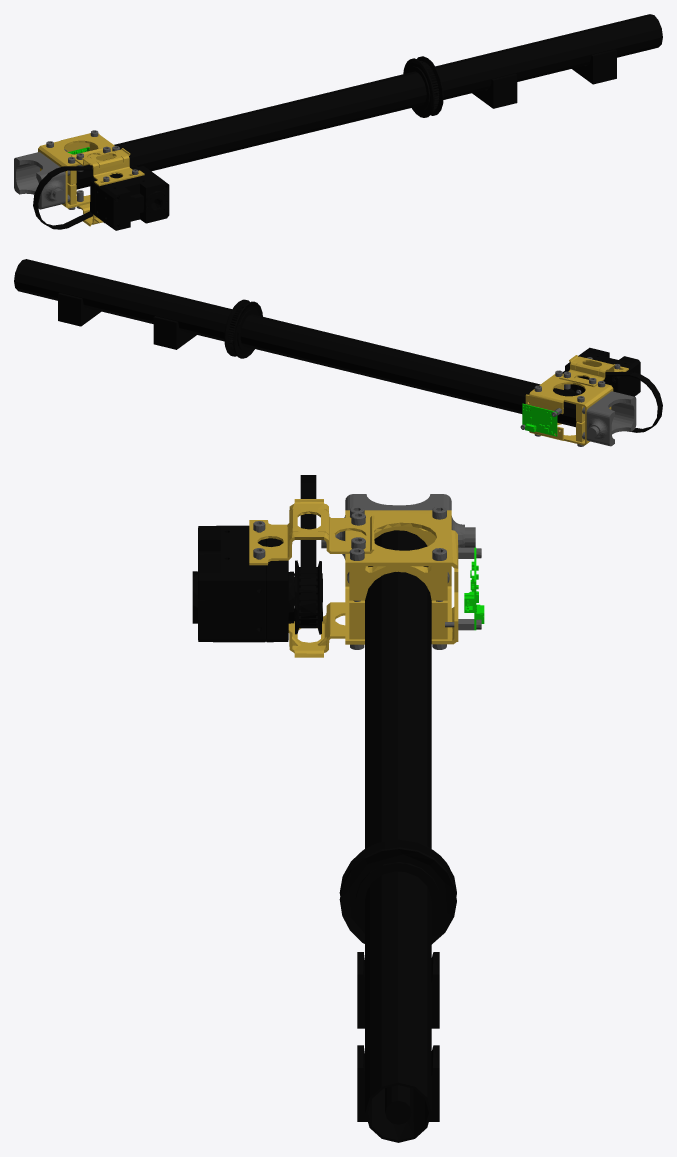
File: end_link.dae
3 views of the same model, one above another, from view 1: azimuth 30°, elevation 25°; view 2: azimuth 150°, elevation 25°; view 3: azimuth 270°, elevation 25° (orthographic). The views are drawn at different scales.
Visible parts, largest first — view 1: end_leg_black, end_leg_gold, end_leg_grey; view 2: end_leg_black, end_leg_gold, end_leg_grey, end_leg_green; view 3: end_leg_black, end_leg_gold, end_leg_grey.
Boxes of the visible parts, left/top/right/bottom form: end_leg_black: left=33, top=14, right=662, bottom=230; end_leg_gold: left=38, top=133, right=144, bottom=226; end_leg_grey: left=14, top=130, right=138, bottom=223; end_leg_black: left=14, top=259, right=662, bottom=432; end_leg_gold: left=525, top=355, right=628, bottom=445; end_leg_grey: left=520, top=357, right=636, bottom=446; end_leg_green: left=522, top=403, right=557, bottom=436; end_leg_black: left=192, top=475, right=456, bottom=1142; end_leg_gold: left=249, top=499, right=458, bottom=657; end_leg_grey: left=253, top=494, right=481, bottom=649.
Bounding box in the file's own units: 0.535 × 0.1096 × 0.05.
